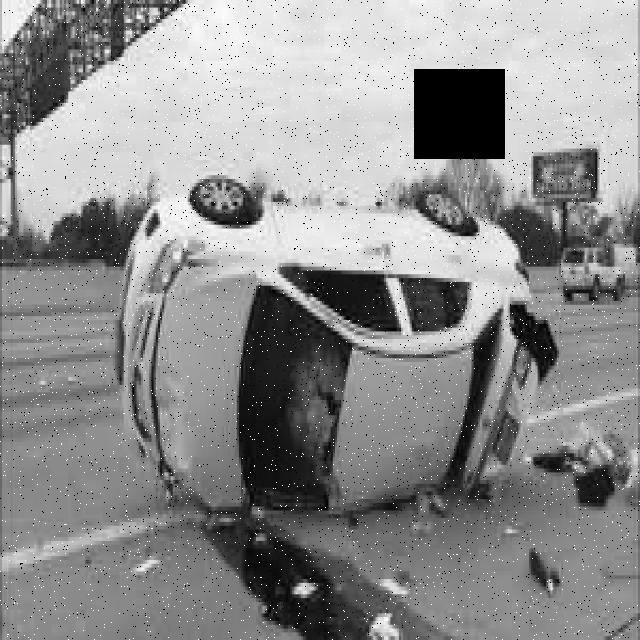severe: (111, 160, 546, 518)
